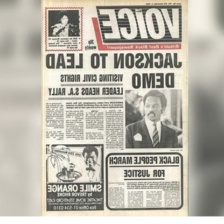news_paper: (40, 0, 188, 217)
